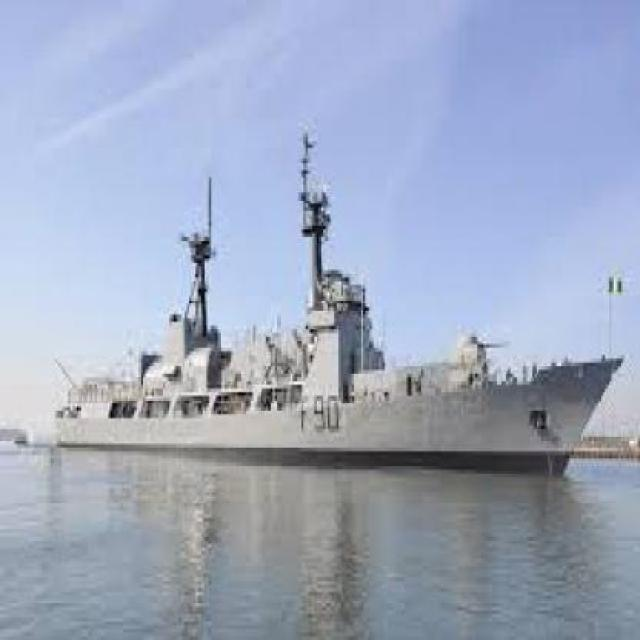warship2: (41, 116, 635, 487)
